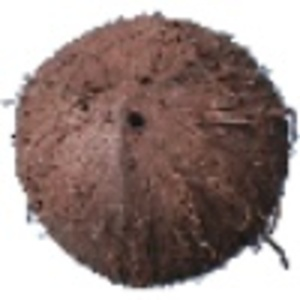coco: (5, 13, 300, 289)
